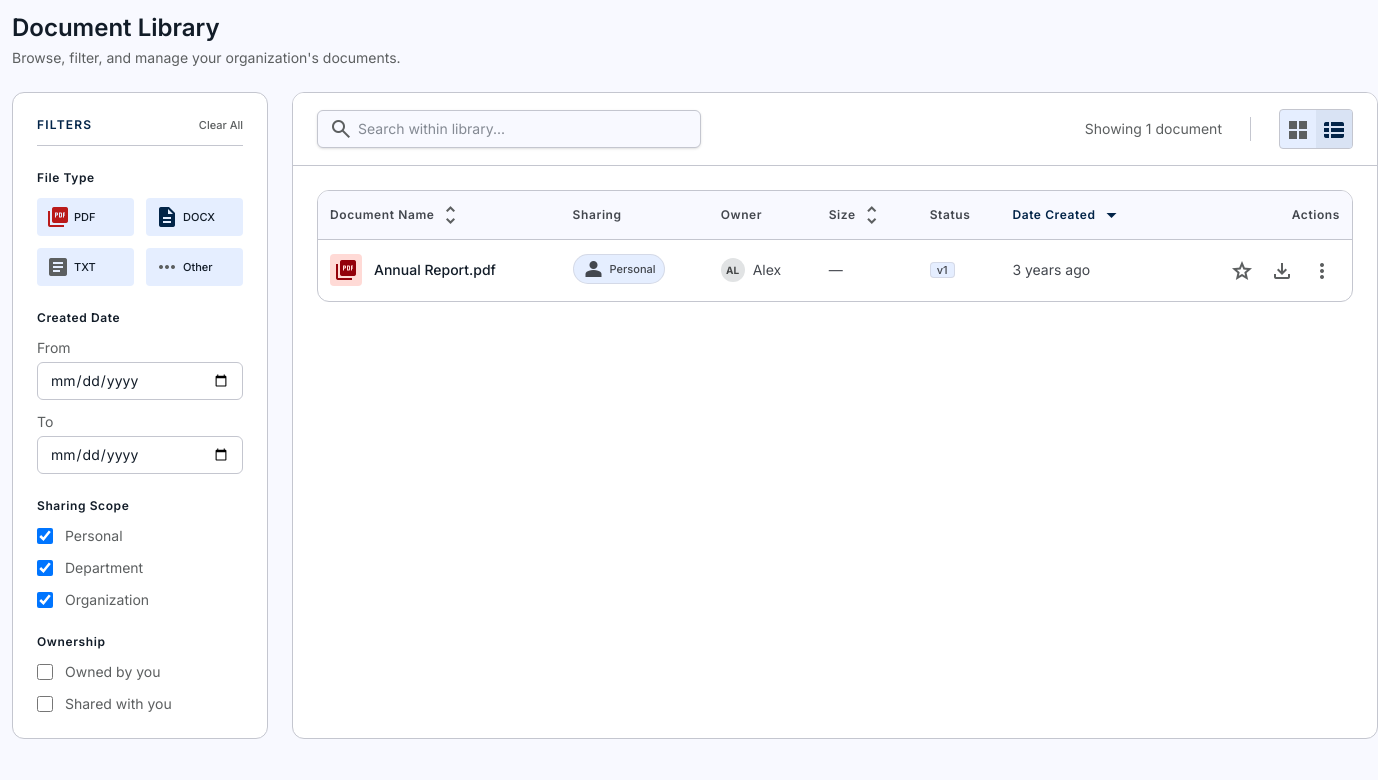
DocumentLibraryPage › clearing all filters also empties the search box
Expected: the text "Annual Report.pdf" is shown, [374,260,496,280]
Type "budget" into the field with placeholder "Search within library..." at (509, 129), box [317,110,701,148]
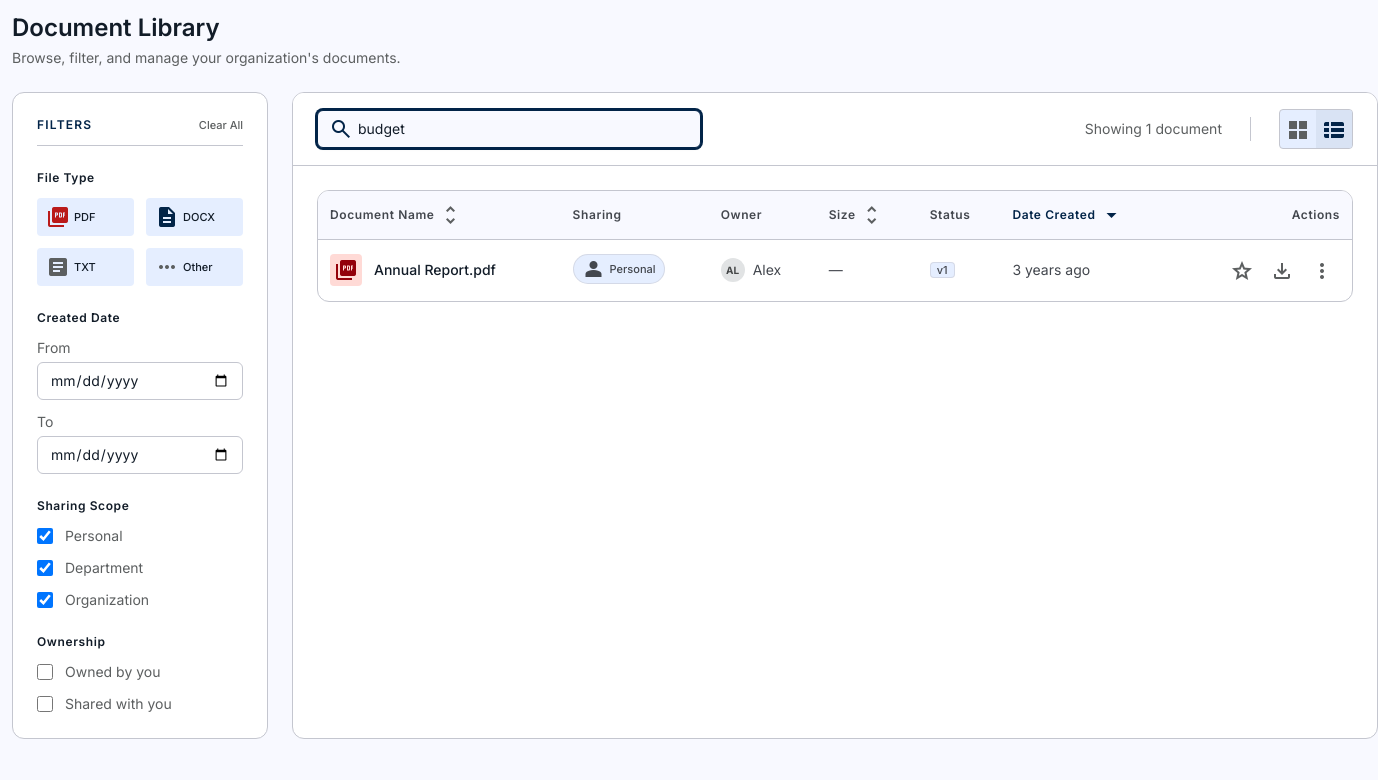
Click the button "Clear All" at (221, 125), box [199,118,243,132]
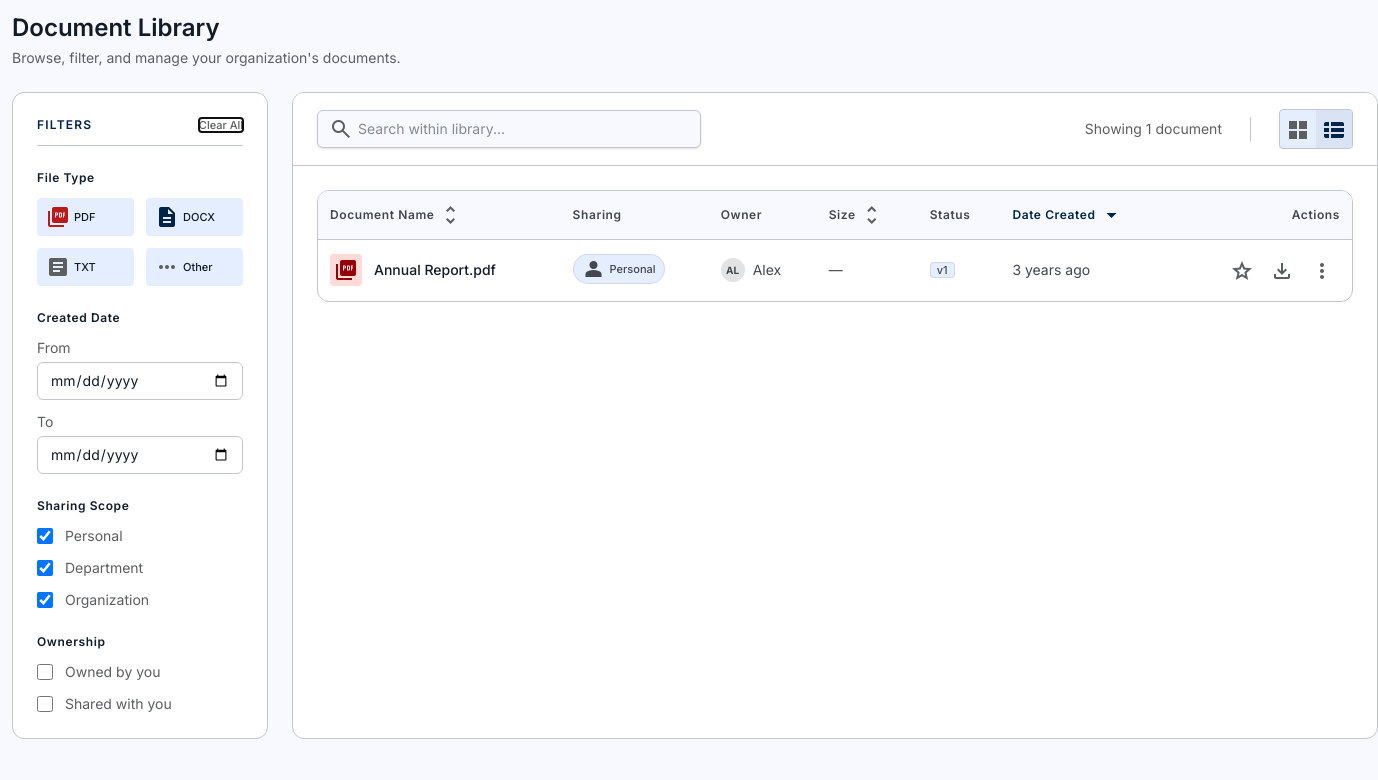
Now the field with placeholder "Search within library..." is empty, box [317,110,701,148]
